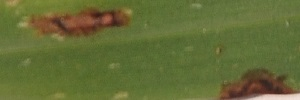RiceBrownSpot: (14, 4, 142, 42), (217, 65, 293, 94)
